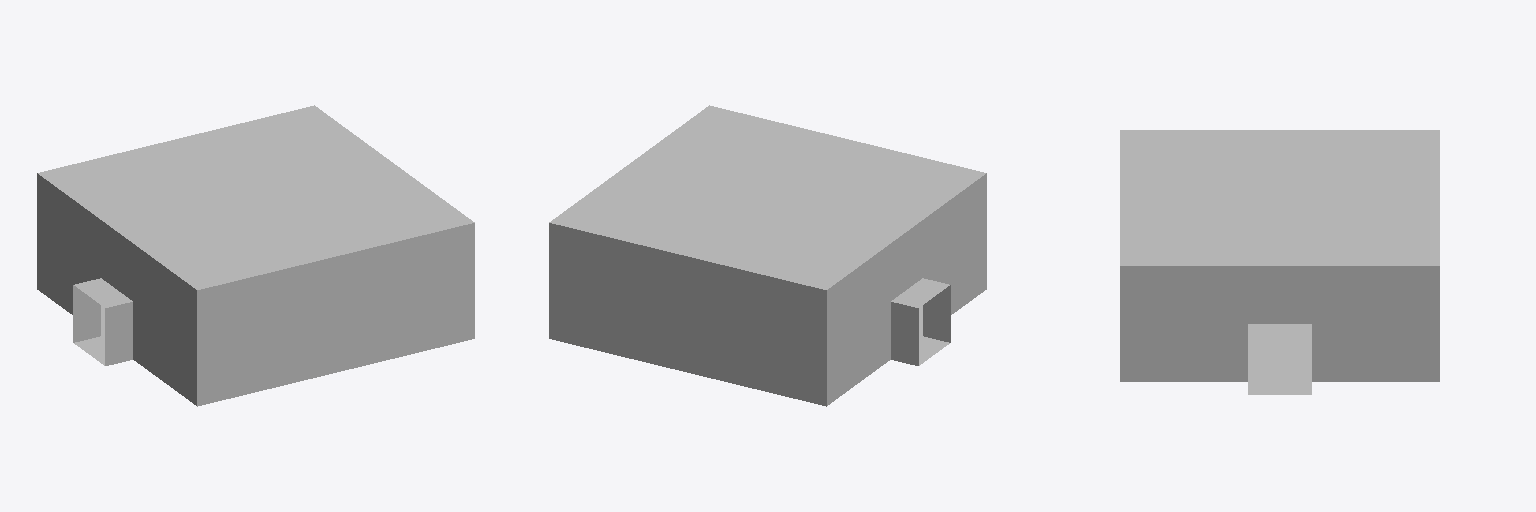
File: Hab3.obj
3 renders of one model, left to right at view 1: azimuth 30°, elevation 25°; view 2: azimuth 150°, elevation 25°; view 3: azimuth 270°, elevation 25°, orthographic.
Visible parts, largest first — view 1: Cubo; view 2: Cubo; view 3: Cubo.
Boxes of the visible parts, x1,y1,x2,y2 form: Cubo: [37, 105, 474, 406]; Cubo: [549, 105, 986, 406]; Cubo: [1120, 130, 1439, 394].
Bounding box in the file's own units: 12 × 4 × 10.